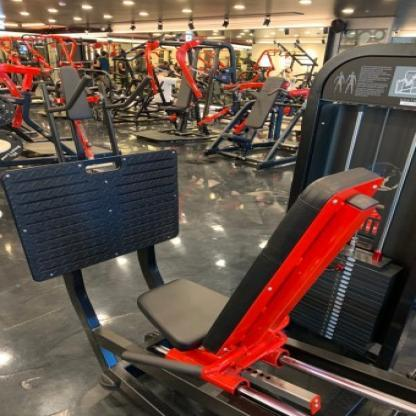leg press: (0, 35, 416, 416)
